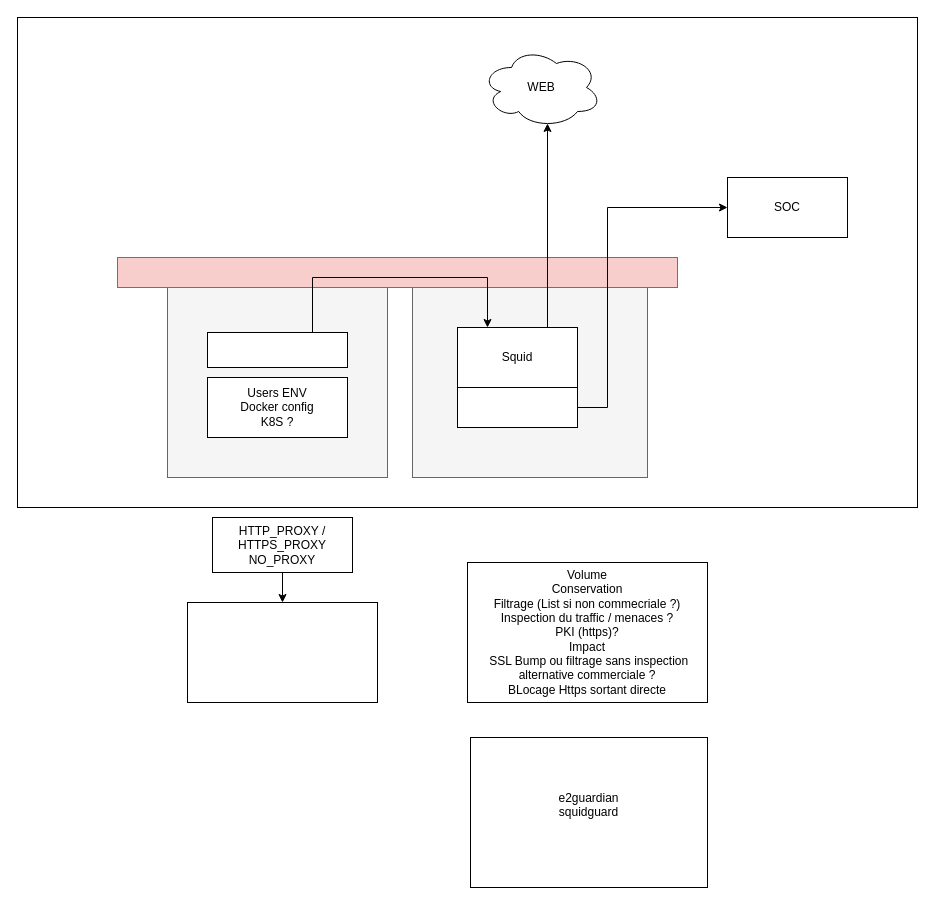
The diagram is 935 pixels wide and 905 high, and some of its shapes have lost their labels. Here are the shapes that lost their labels. From the top down, the centre of each, then its label:
At [277,350]: "Serveurs".
At [517,407]: "Filebeat".
At [282,652]: "registry.ignimission.com Proxy-Cache".
